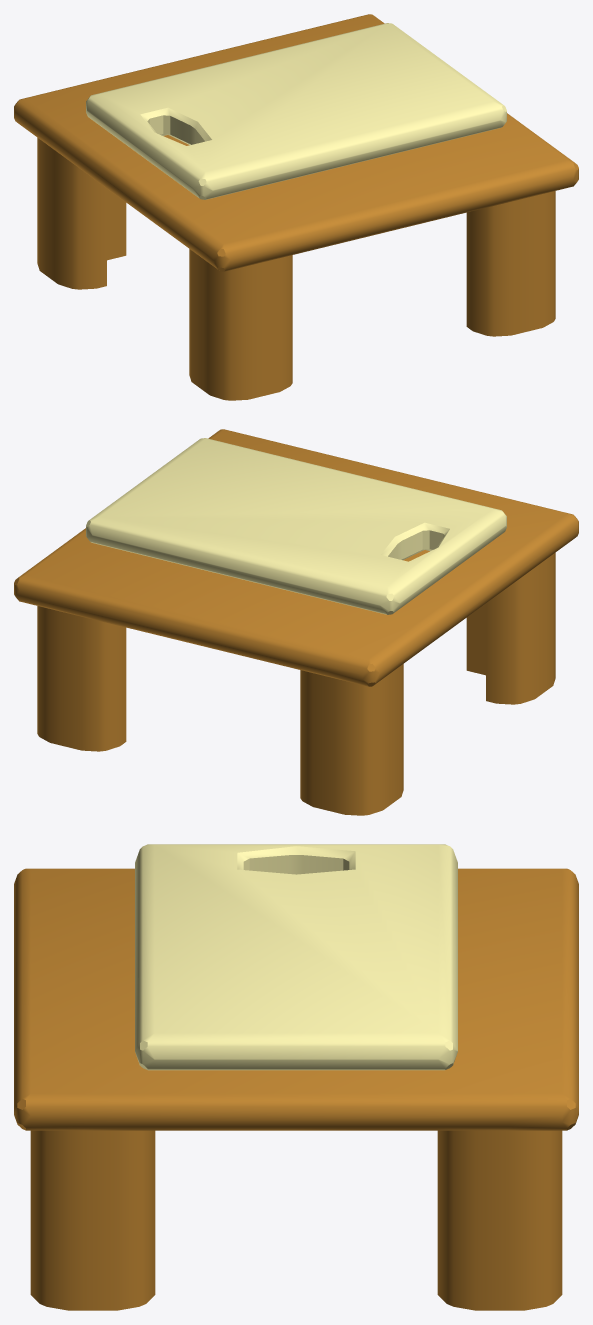
Rendered from cutting_desk.FBX.
3 views of the same model, one above another, from view 1: azimuth 30°, elevation 25°; view 2: azimuth 150°, elevation 25°; view 3: azimuth 270°, elevation 25° (orthographic). The views are drawn at different scales.
Visible parts, largest first — view 1: Box001, cutting; view 2: Box001, cutting; view 3: Box001, cutting.
Part boxes in pixels (x1,y1,x2,y2): Box001: [14, 14, 578, 400]; cutting: [86, 23, 506, 199]; Box001: [14, 429, 578, 815]; cutting: [86, 438, 506, 614]; Box001: [14, 868, 578, 1310]; cutting: [135, 844, 457, 1070].
Size of the model in its own units: 140 by 140 by 70.9.
2 materials, 2 textured.
